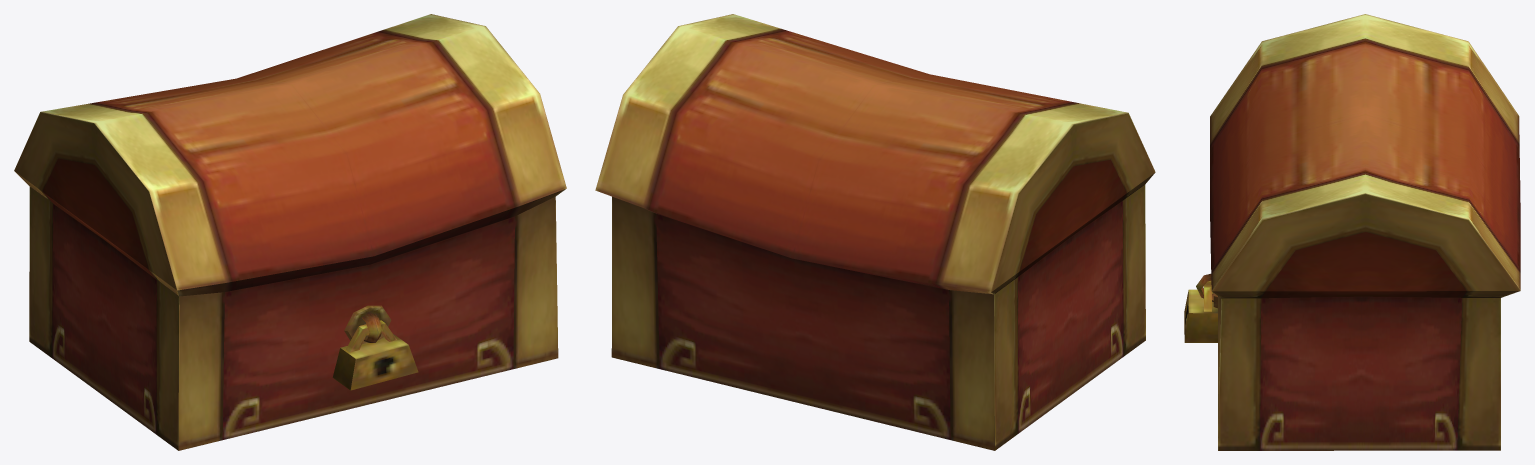
The model's file is baoxiangcheng.FBX.
The picture shows the model from 3 angles, left to right: view 1: azimuth 30°, elevation 25°; view 2: azimuth 150°, elevation 25°; view 3: azimuth 270°, elevation 25°; orthographic projection. The views are drawn at different scales.
Visible parts, largest first — view 1: baoxiangcheng; view 2: baoxiangcheng; view 3: baoxiangcheng.
Boxes of the visible parts, box(x1,y1,x2,y2) form: baoxiangcheng: box(14, 14, 566, 450); baoxiangcheng: box(595, 14, 1155, 450); baoxiangcheng: box(1184, 14, 1520, 450).
Size of the model in its own units: 94.22 by 62.98 by 73.97.
